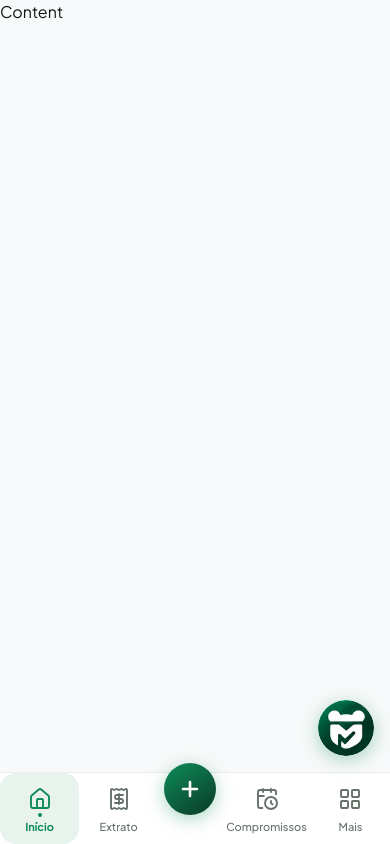
Test: AppShell › sheet navigation › opens the quick actions disclosure when FAB is clicked
Click the button named "Nova transação": (190, 789) left=164, top=763, right=216, bottom=815
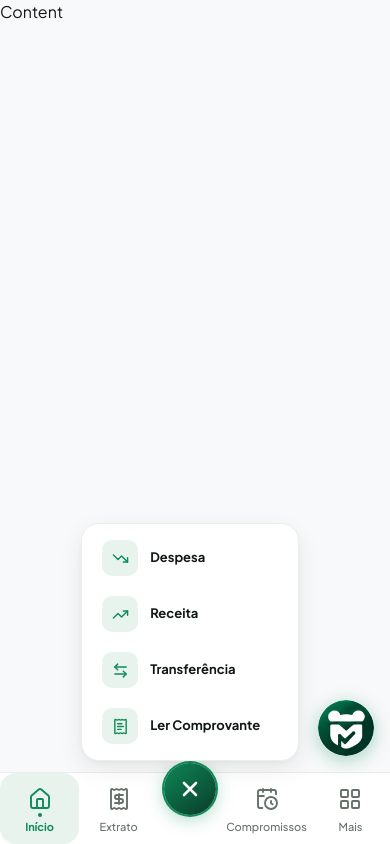
Check: the element named "Novo lançamento" is shown, box left=81, top=523, right=299, bottom=761
Check: the text "Despesa" is shown, box left=150, top=548, right=205, bottom=568
